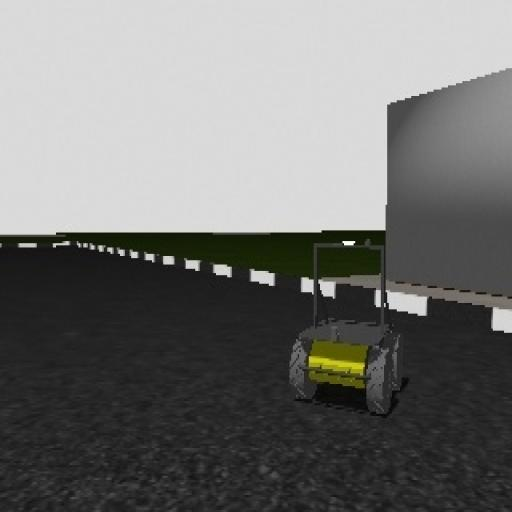huskya200: (274, 228, 419, 419)
